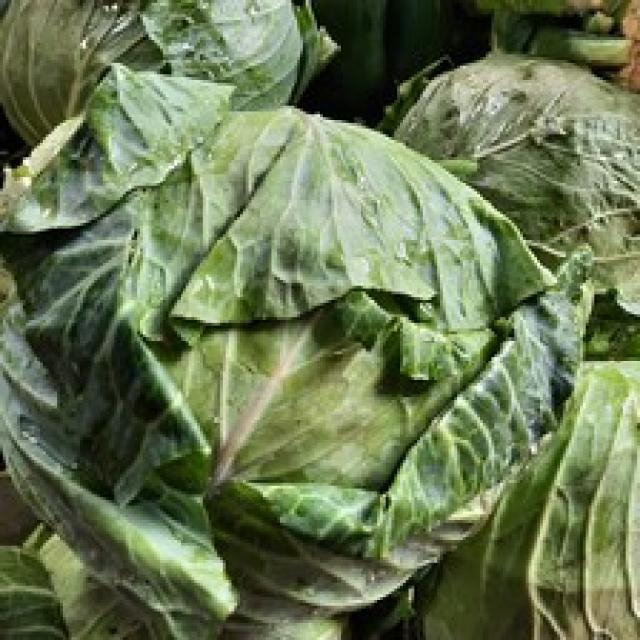Cabbage: (71, 84, 565, 554)
